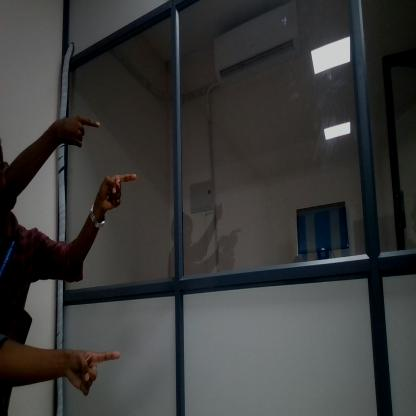Left: (64, 339, 120, 391), (99, 160, 145, 218), (55, 107, 103, 154)
